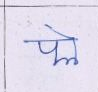o_matra: (62, 33, 81, 67)
